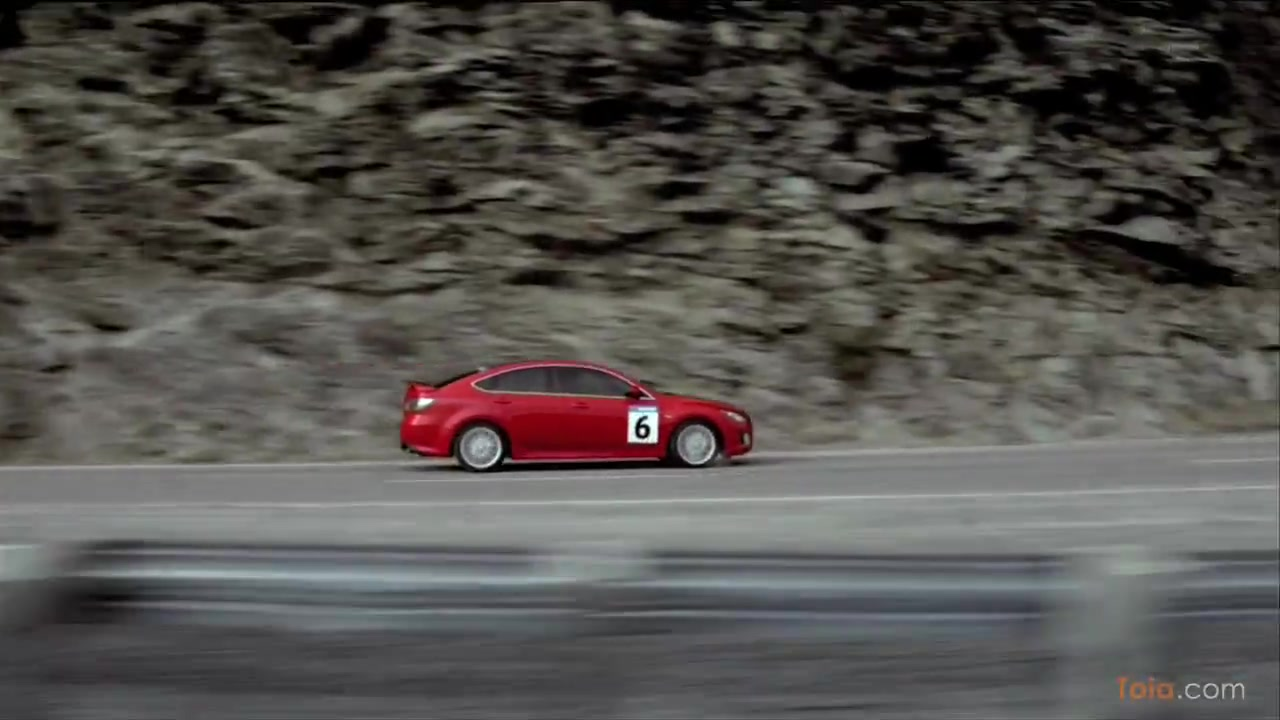car: (398, 354, 758, 478)
